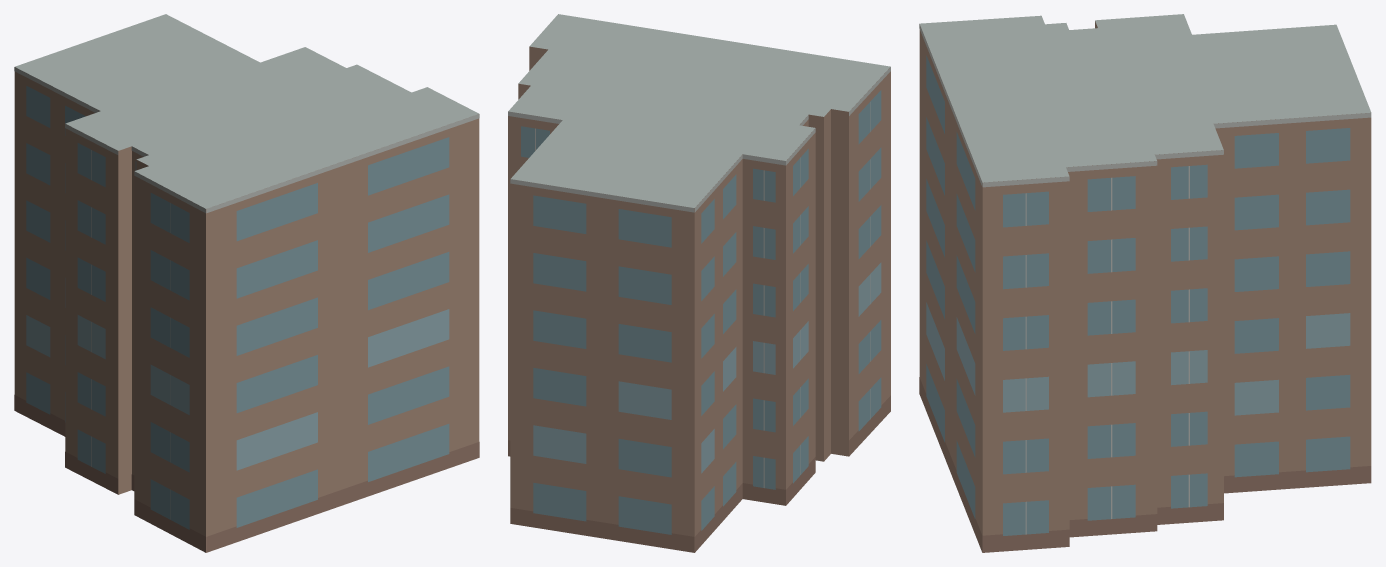
Rendered from survey-upis-32914920.glb.
The picture shows the model from 3 angles, left to right: view 1: azimuth 30°, elevation 25°; view 2: azimuth 150°, elevation 25°; view 3: azimuth 270°, elevation 25°; orthographic projection. The views are drawn at different scales.
Visible parts, largest first — view 1: survey-upis-32914920.tmp; view 2: survey-upis-32914920.tmp; view 3: survey-upis-32914920.tmp.
Boxes of the visible parts, left/top/right/bottom form: survey-upis-32914920.tmp: left=14, top=14, right=479, bottom=552; survey-upis-32914920.tmp: left=508, top=14, right=890, bottom=552; survey-upis-32914920.tmp: left=919, top=14, right=1371, bottom=552.
Size of the model in its own units: 18.26 by 18.7 by 20.69.
